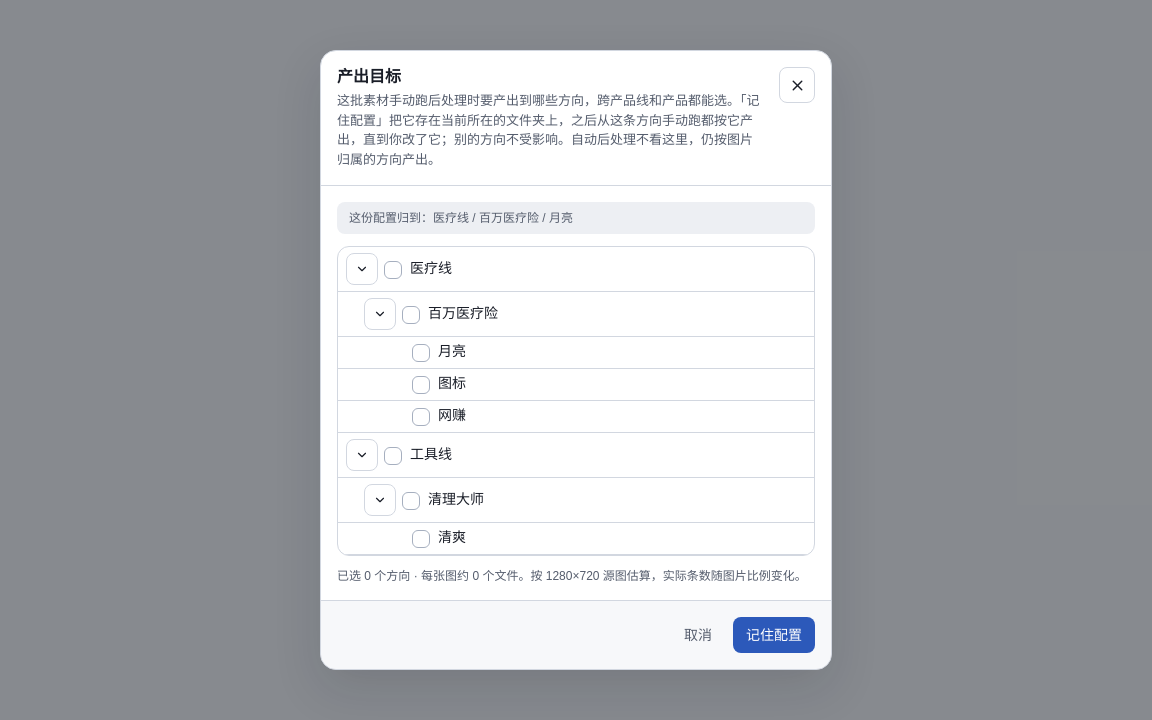
Test: PostprocessTargetsDialog › 折叠父节点 → 子级不再渲染；展开又回来
Click the button named "收起「百万医疗险」" at (380, 314), box [364, 298, 396, 330]
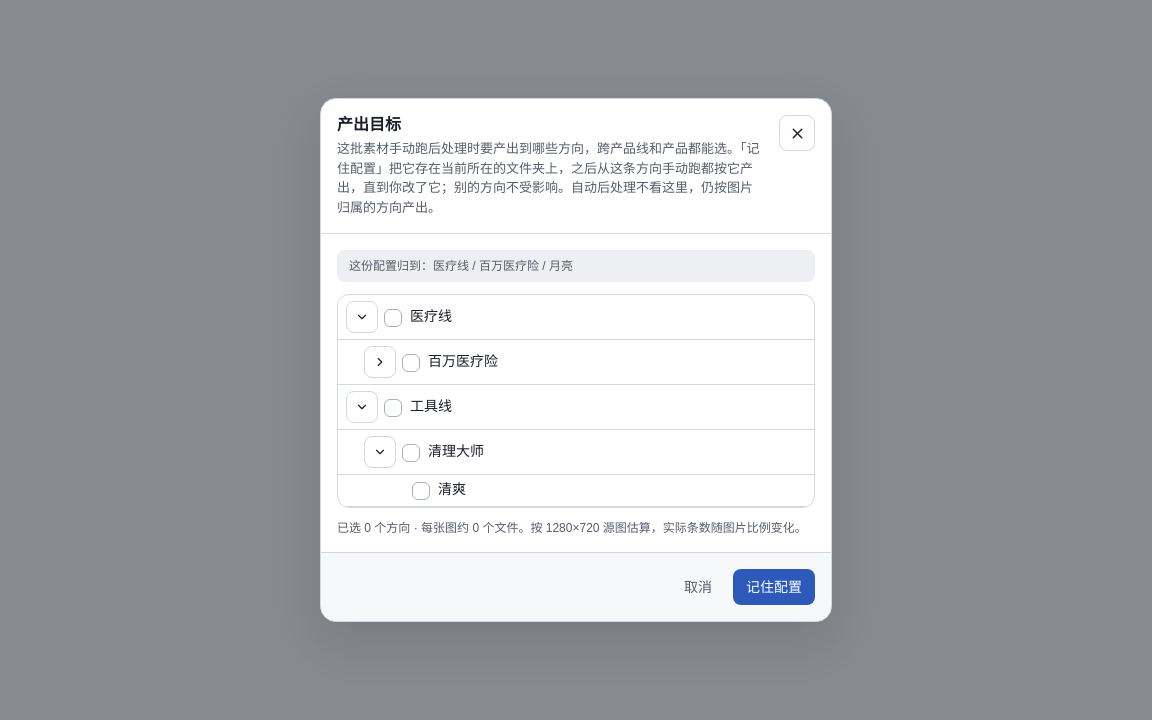
Click the button named "收起「百万医疗险」" at (380, 362), box [364, 346, 396, 378]
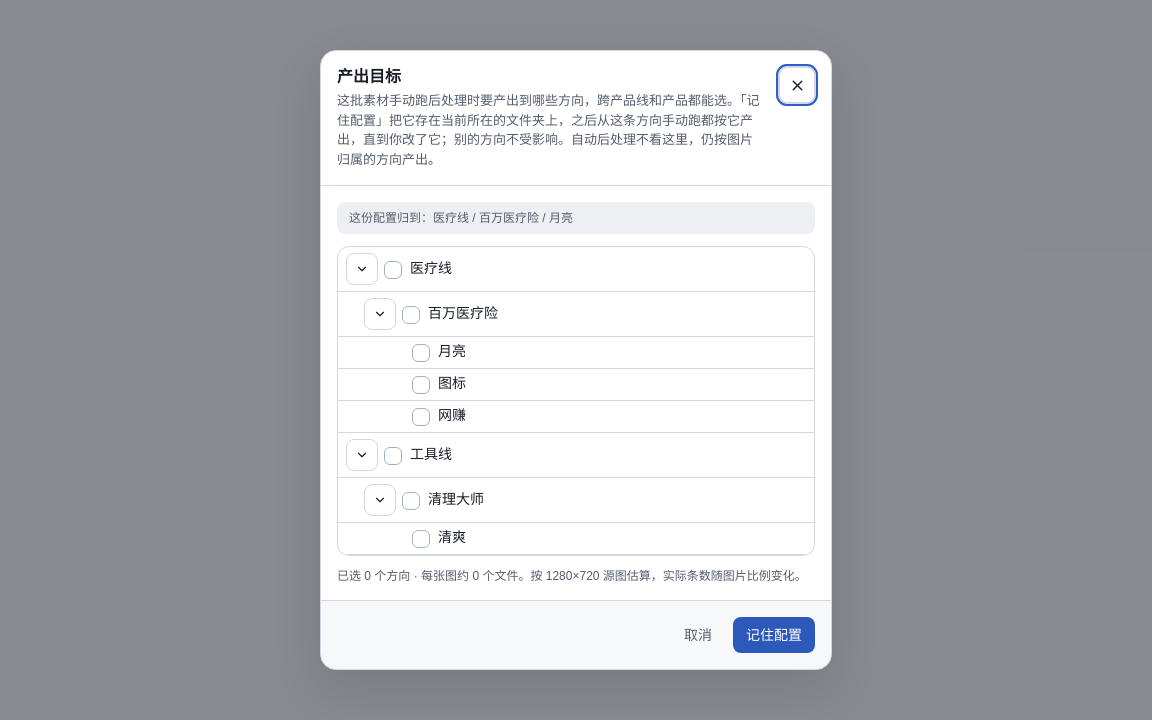
Check: the checkbox labelled "✓ 月亮" is shown, box [412, 343, 466, 362]
